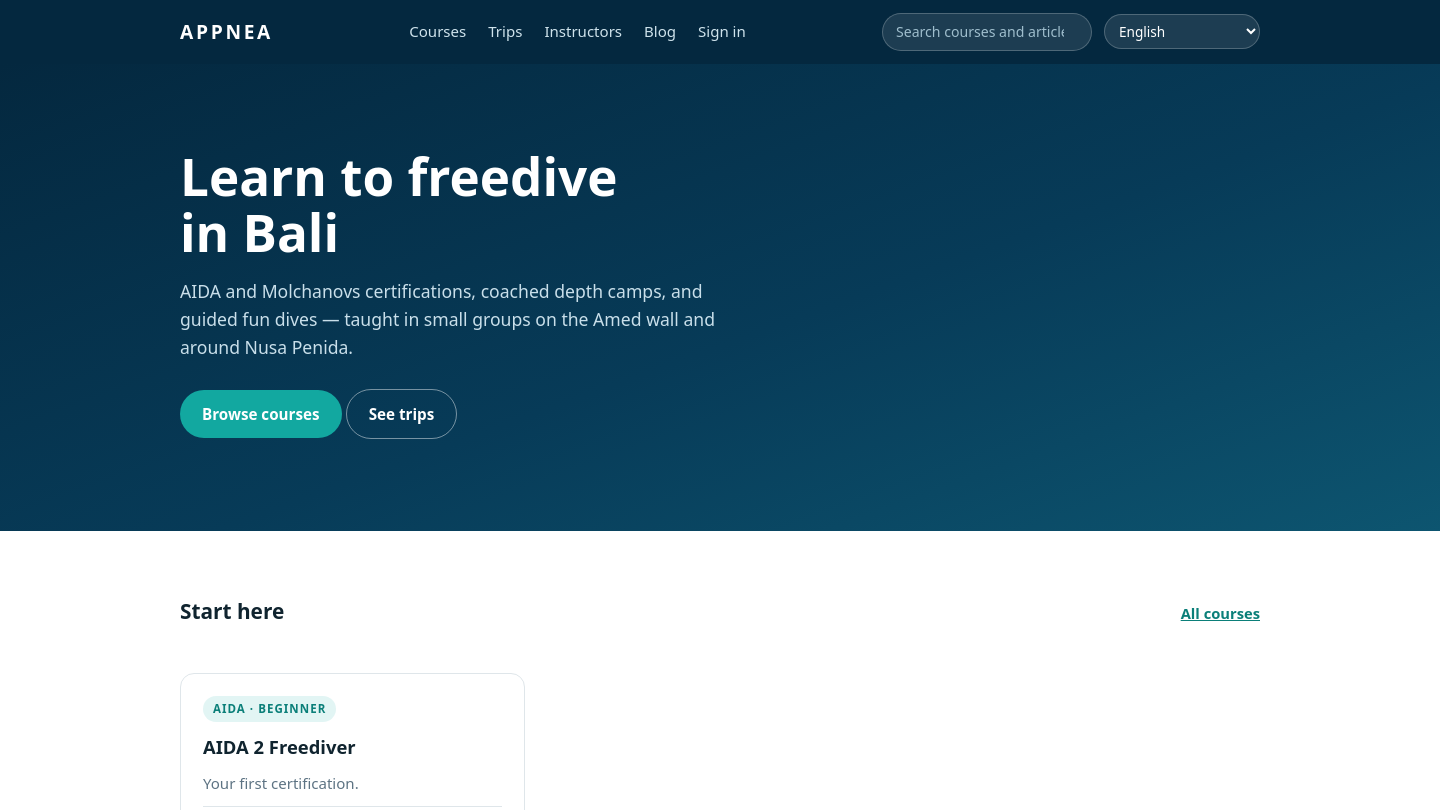
Scenario: client-side navigation › walks through several pages in a row
What coordinates should you click on to do the following:
click the link "Instructors"
I would click on:
 (583, 31)
Its box is x1=544 y1=21 x2=622 y2=41.
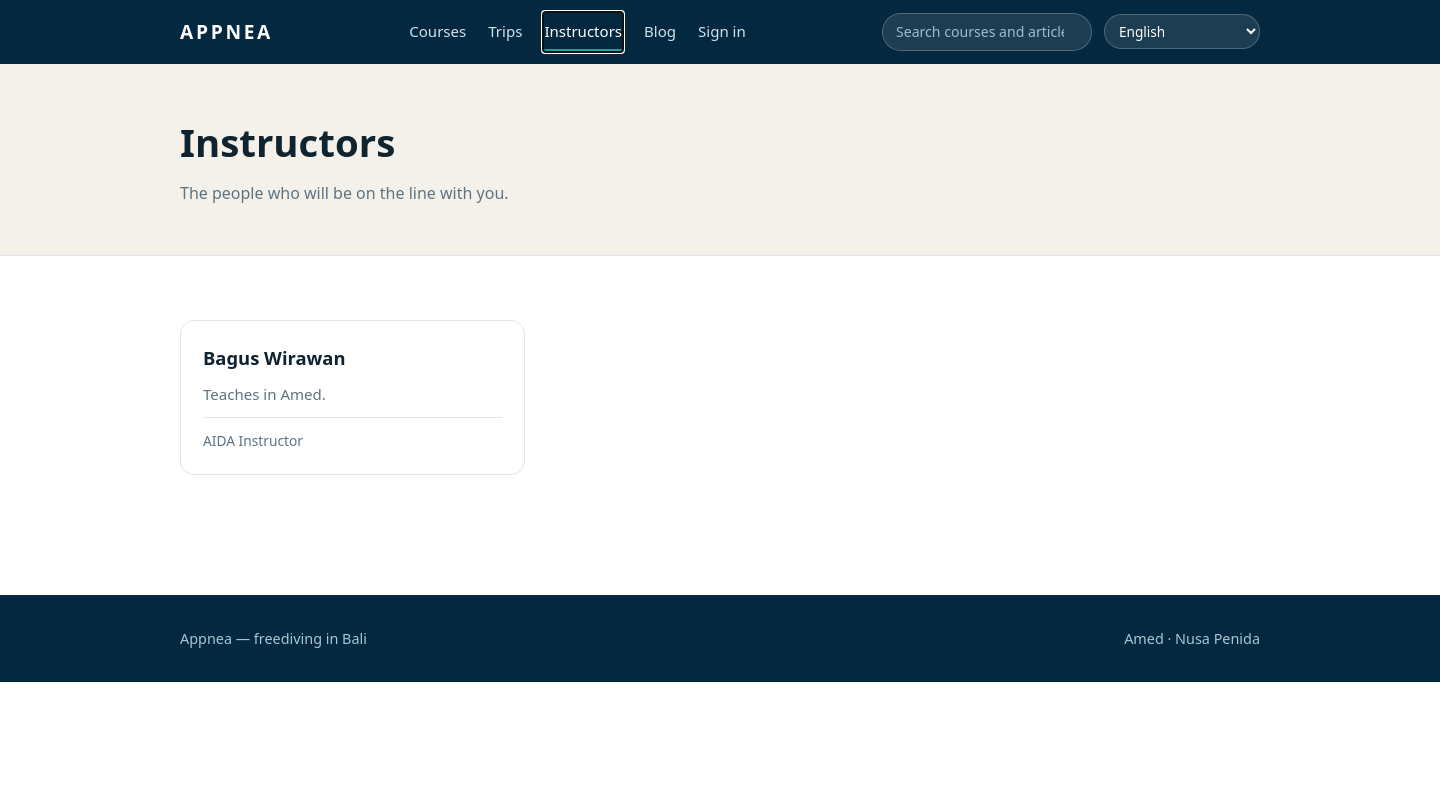
expect the heading "Bagus Wirawan" is shown: met, box x1=203 y1=345 x2=346 y2=370
What coordinates should you click on to do the following:
click the link "Trips"
I would click on:
 (505, 31)
Its box is x1=488 y1=21 x2=522 y2=41.
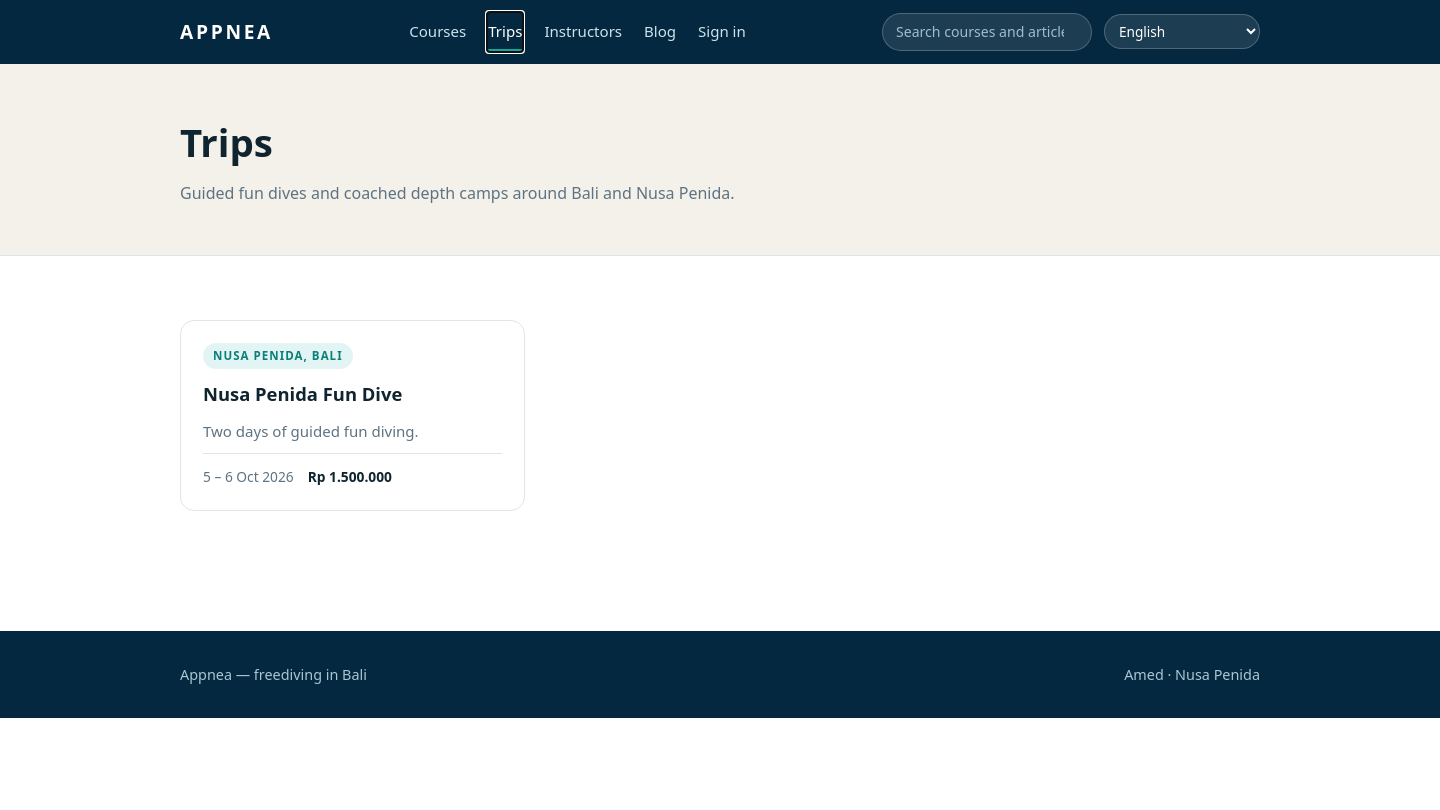
expect the heading "Nusa Penida Fun Dive" is shown: met, box x1=203 y1=382 x2=402 y2=406
What coordinates should you click on to do the following:
click the link "Courses"
I would click on:
 (438, 31)
Its box is x1=409 y1=21 x2=466 y2=41.
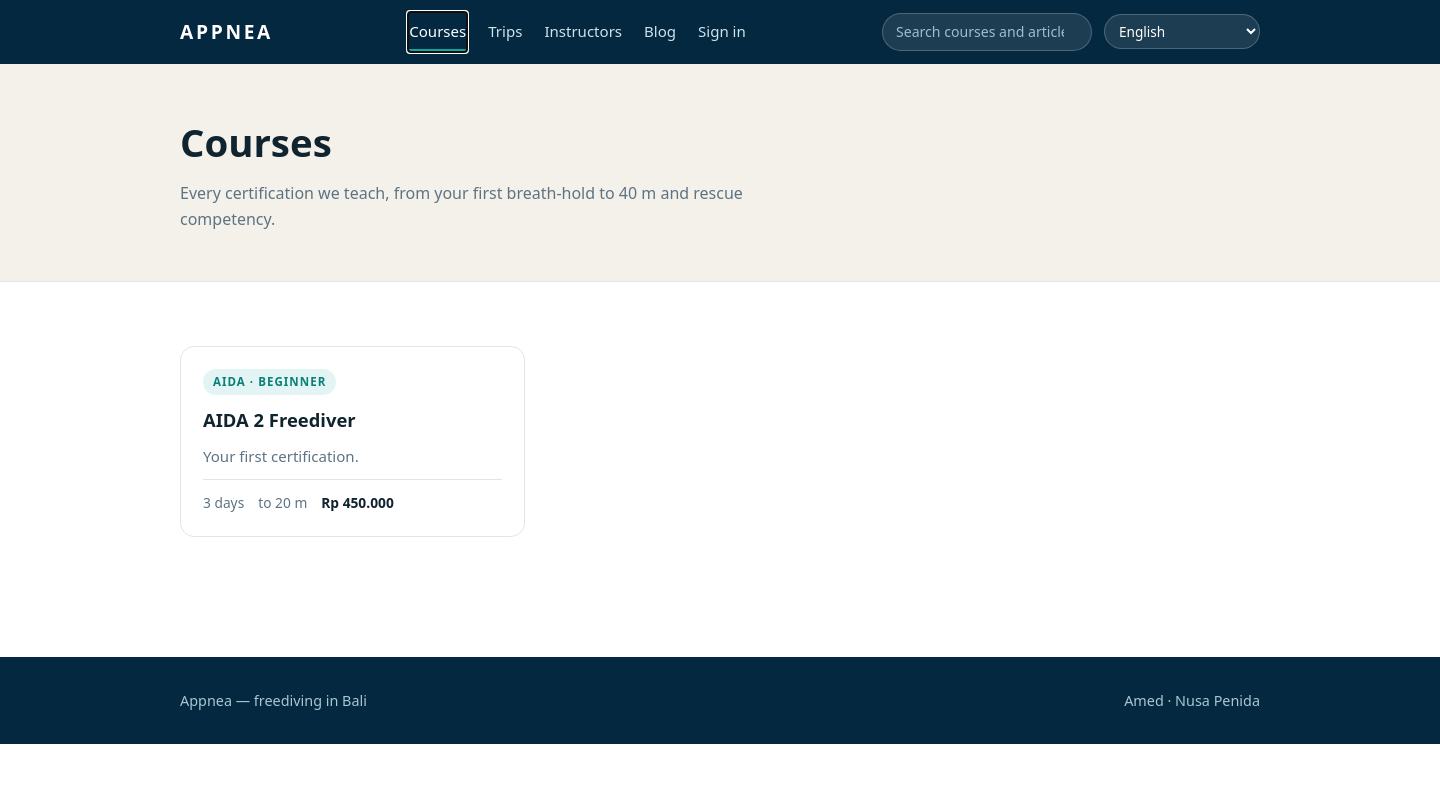
expect the heading "AIDA 2 Freediver" is shown: met, box x1=203 y1=407 x2=356 y2=432
